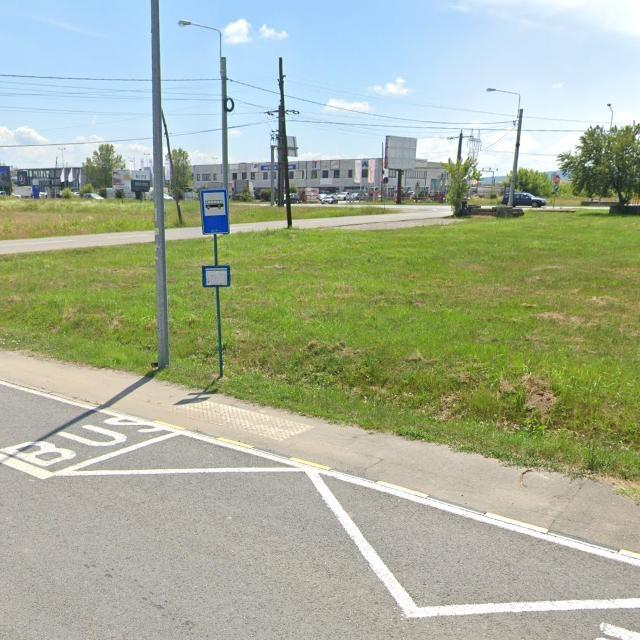prio_give_way: (553, 175, 560, 184)
